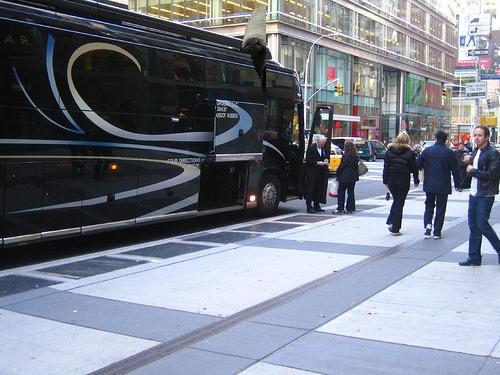tampered: (243, 6, 266, 93)
